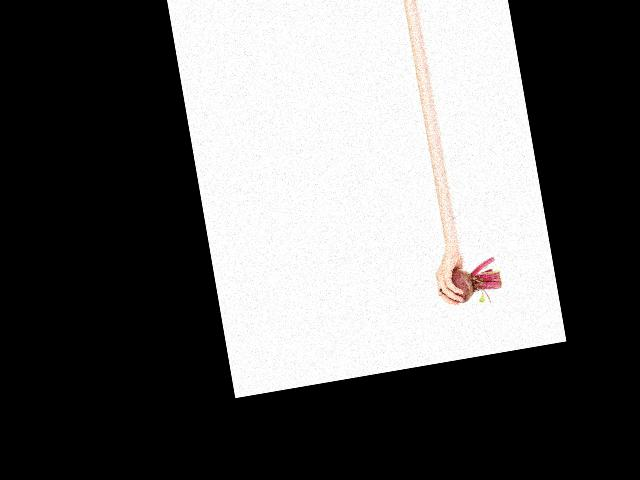beet: (434, 255, 504, 311)
